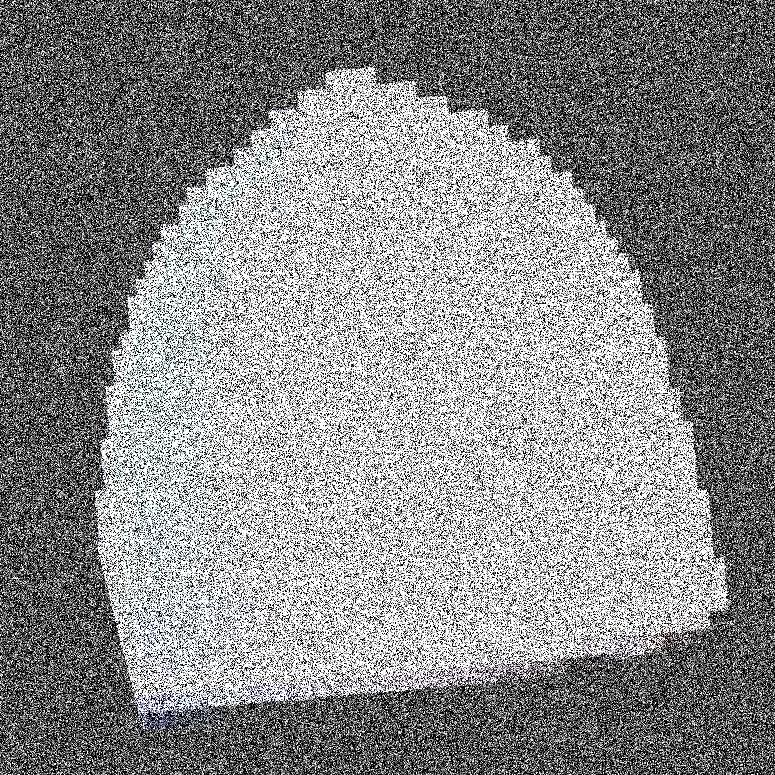Capacete: (230, 0, 774, 774)
